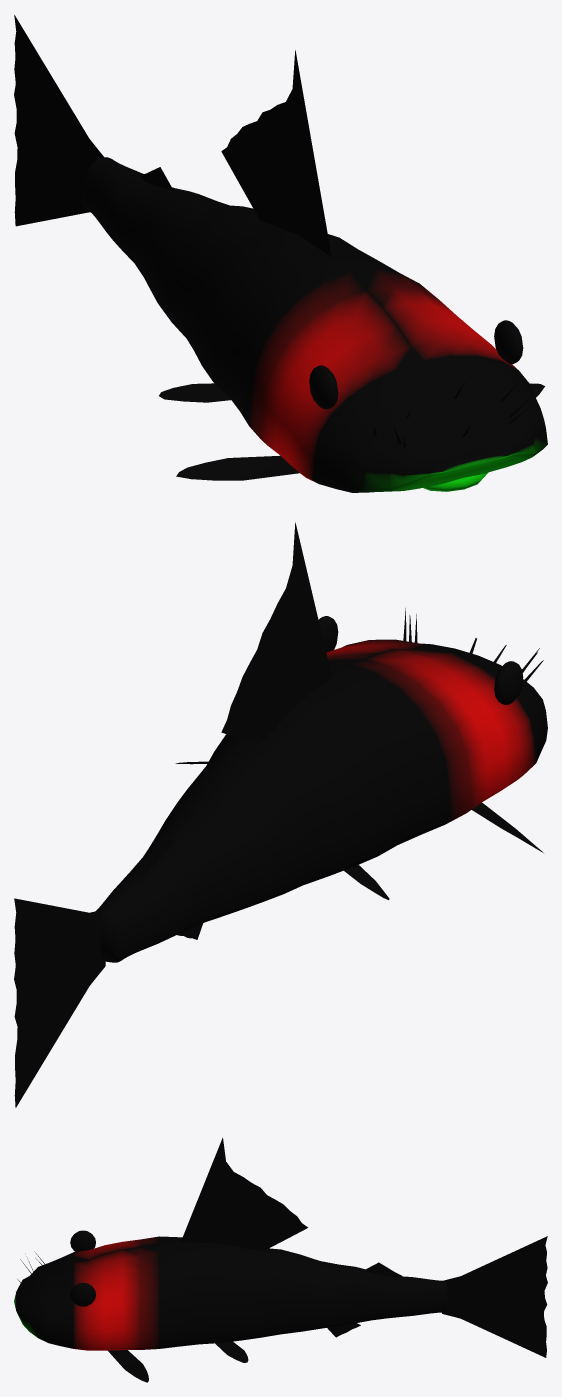
Rendered from bristlenose-pleco.glb.
3 renders of one model, top to bottom at view 1: azimuth 30°, elevation 25°; view 2: azimuth 150°, elevation 25°; view 3: azimuth 270°, elevation 25°, orthographic. The views are drawn at different scales.
Parts seen in each view (by area): view 1: bristle_body, bristle_caudal, bristle_dorsal, bristle_pectoralL, bristle_pelvicL, bristle_eyeL, bristle_eyeR; view 2: bristle_body, bristle_caudal, bristle_dorsal, bristle_eyeL; view 3: bristle_body, bristle_caudal, bristle_dorsal, bristle_pectoralR, bristle_eyeR, bristle_eyeL, bristle_pelvicR.
Boxes of the visible parts, bbox=[...] form: bristle_body: bbox=[82, 157, 547, 492]; bristle_caudal: bbox=[14, 15, 105, 226]; bristle_dorsal: bbox=[221, 50, 331, 257]; bristle_pectoralL: bbox=[176, 455, 299, 480]; bristle_pelvicL: bbox=[159, 383, 230, 402]; bristle_eyeL: bbox=[309, 365, 338, 409]; bristle_eyeR: bbox=[494, 320, 523, 364]; bristle_body: bbox=[96, 639, 547, 962]; bristle_caudal: bbox=[14, 898, 105, 1107]; bristle_dorsal: bbox=[221, 522, 331, 744]; bristle_eyeL: bbox=[494, 661, 523, 704]; bristle_body: bbox=[14, 1236, 447, 1350]; bristle_caudal: bbox=[442, 1236, 547, 1357]; bristle_dorsal: bbox=[181, 1137, 307, 1250]; bristle_pectoralR: bbox=[108, 1350, 148, 1382]; bristle_eyeR: bbox=[70, 1283, 95, 1306]; bristle_eyeL: bbox=[70, 1230, 95, 1251]; bristle_pelvicR: bbox=[215, 1341, 248, 1362].
Bounding box in the file's own units: 0.5698 × 0.5641 × 1.23.
